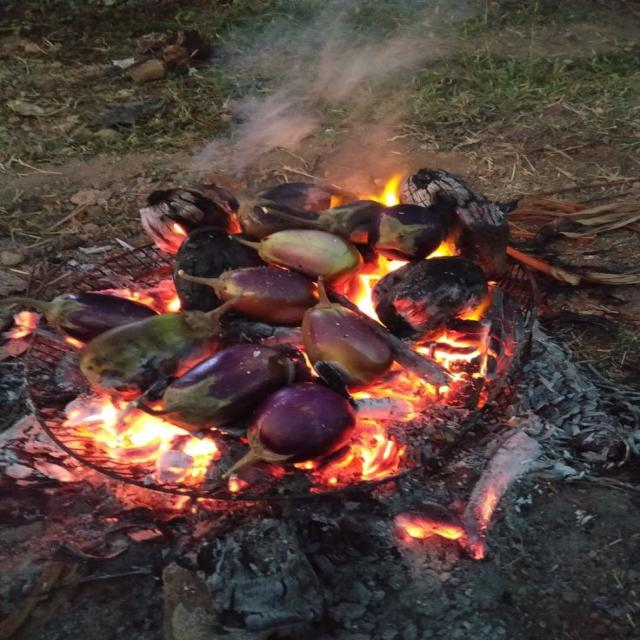fire: (84, 399, 213, 473), (353, 252, 403, 316), (411, 327, 481, 372), (373, 168, 407, 207)
